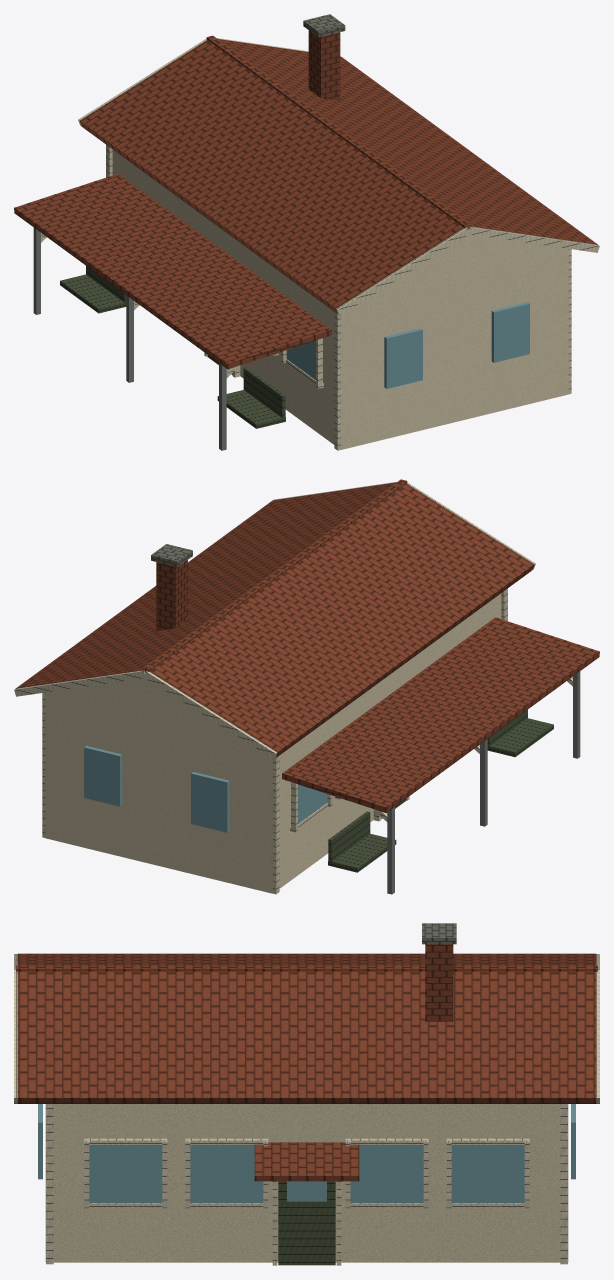
The model's file is arizona-station-modern_lod0.glb.
3 views of the same model, one above another, from view 1: azimuth 30°, elevation 25°; view 2: azimuth 150°, elevation 25°; view 3: azimuth 270°, elevation 25° (orthographic). The views are drawn at different scales.
Visible parts, largest first — view 1: RF_Station_Roof-1, RF_Station_Body, RF_Station_Canopy, RF_Station_Roof1, RF_Station_Gable.001, RF_Station_Ridge, RF_Station_Chimney, RF_Station_EndWindow.001, RF_Station_EndWindow.002, RF_Station_Vergeband.001, RF_Station_Bench, RF_Station_Bench.001 (+9 smaller); view 2: RF_Station_Roof-1, RF_Station_Body, RF_Station_Canopy, RF_Station_Roof1, RF_Station_Gable, RF_Station_Ridge, RF_Station_EndWindow.003, RF_Station_EndWindow, RF_Station_Chimney, RF_Station_Vergeband.002, RF_Station_Bench.001, RF_Station_Bench (+9 smaller); view 3: RF_Station_Roof1, RF_Station_Body, RF_Station_Roof-1, RF_Station_Window.005, RF_Station_Window, RF_Station_PublicAwning, RF_Station_Door, RF_Station_Window.006, RF_Station_Window.007, RF_Station_Ridge, RF_Station_Chimney, RF_Station_Corner.003 (+11 smaller).
Part boxes in pixels (x1=…): RF_Station_Roof-1: x1=80, y1=40, x2=463, y2=313; RF_Station_Body: x1=112, y1=149, x2=568, y2=449; RF_Station_Canopy: x1=14, y1=173, x2=331, y2=369; RF_Station_Roof1: x1=218, y1=39, x2=597, y2=244; RF_Station_Gable.001: x1=385, y1=234, x2=553, y2=287; RF_Station_Ridge: x1=206, y1=35, x2=471, y2=228; RF_Station_Chimney: x1=308, y1=30, x2=340, y2=100; RF_Station_EndWindow.001: x1=384, y1=328, x2=422, y2=388; RF_Station_EndWindow.002: x1=491, y1=302, x2=529, y2=362; RF_Station_Vergeband.001: x1=336, y1=227, x2=469, y2=315; RF_Station_Bench: x1=60, y1=274, x2=126, y2=313; RF_Station_Bench.001: x1=217, y1=390, x2=285, y2=428; RF_Station_Roof-1: x1=150, y1=484, x2=534, y2=757; RF_Station_Body: x1=45, y1=593, x2=501, y2=893; RF_Station_Canopy: x1=282, y1=617, x2=599, y2=812; RF_Station_Roof1: x1=16, y1=483, x2=395, y2=688; RF_Station_Gable: x1=54, y1=678, x2=235, y2=735; RF_Station_Ridge: x1=142, y1=479, x2=407, y2=672; RF_Station_EndWindow.003: x1=191, y1=772, x2=229, y2=832; RF_Station_EndWindow: x1=84, y1=745, x2=122, y2=806; RF_Station_Chimney: x1=156, y1=560, x2=187, y2=630; RF_Station_Vergeband.002: x1=144, y1=671, x2=277, y2=759; RF_Station_Bench.001: x1=487, y1=718, x2=553, y2=757; RF_Station_Bench: x1=328, y1=833, x2=396, y2=872; RF_Station_Roof1: x1=17, y1=971, x2=596, y2=1103; RF_Station_Body: x1=45, y1=1104, x2=568, y2=1262; RF_Station_Roof-1: x1=17, y1=953, x2=596, y2=965; RF_Station_Window.005: x1=89, y1=1145, x2=162, y2=1203; RF_Station_Window: x1=451, y1=1145, x2=524, y2=1203; RF_Station_PublicAwning: x1=254, y1=1142, x2=359, y2=1181; RF_Station_Door: x1=278, y1=1181, x2=335, y2=1265; RF_Station_Window.006: x1=190, y1=1145, x2=263, y2=1203; RF_Station_Window.007: x1=350, y1=1145, x2=423, y2=1203; RF_Station_Ridge: x1=16, y1=965, x2=597, y2=971; RF_Station_Chimney: x1=425, y1=944, x2=453, y2=1021; RF_Station_Corner.003: x1=46, y1=1104, x2=53, y2=1264.
Bounding box in the file's own units: 14.23 × 9.3 × 16.82.
Materials: 8 (6 with a texture image).
